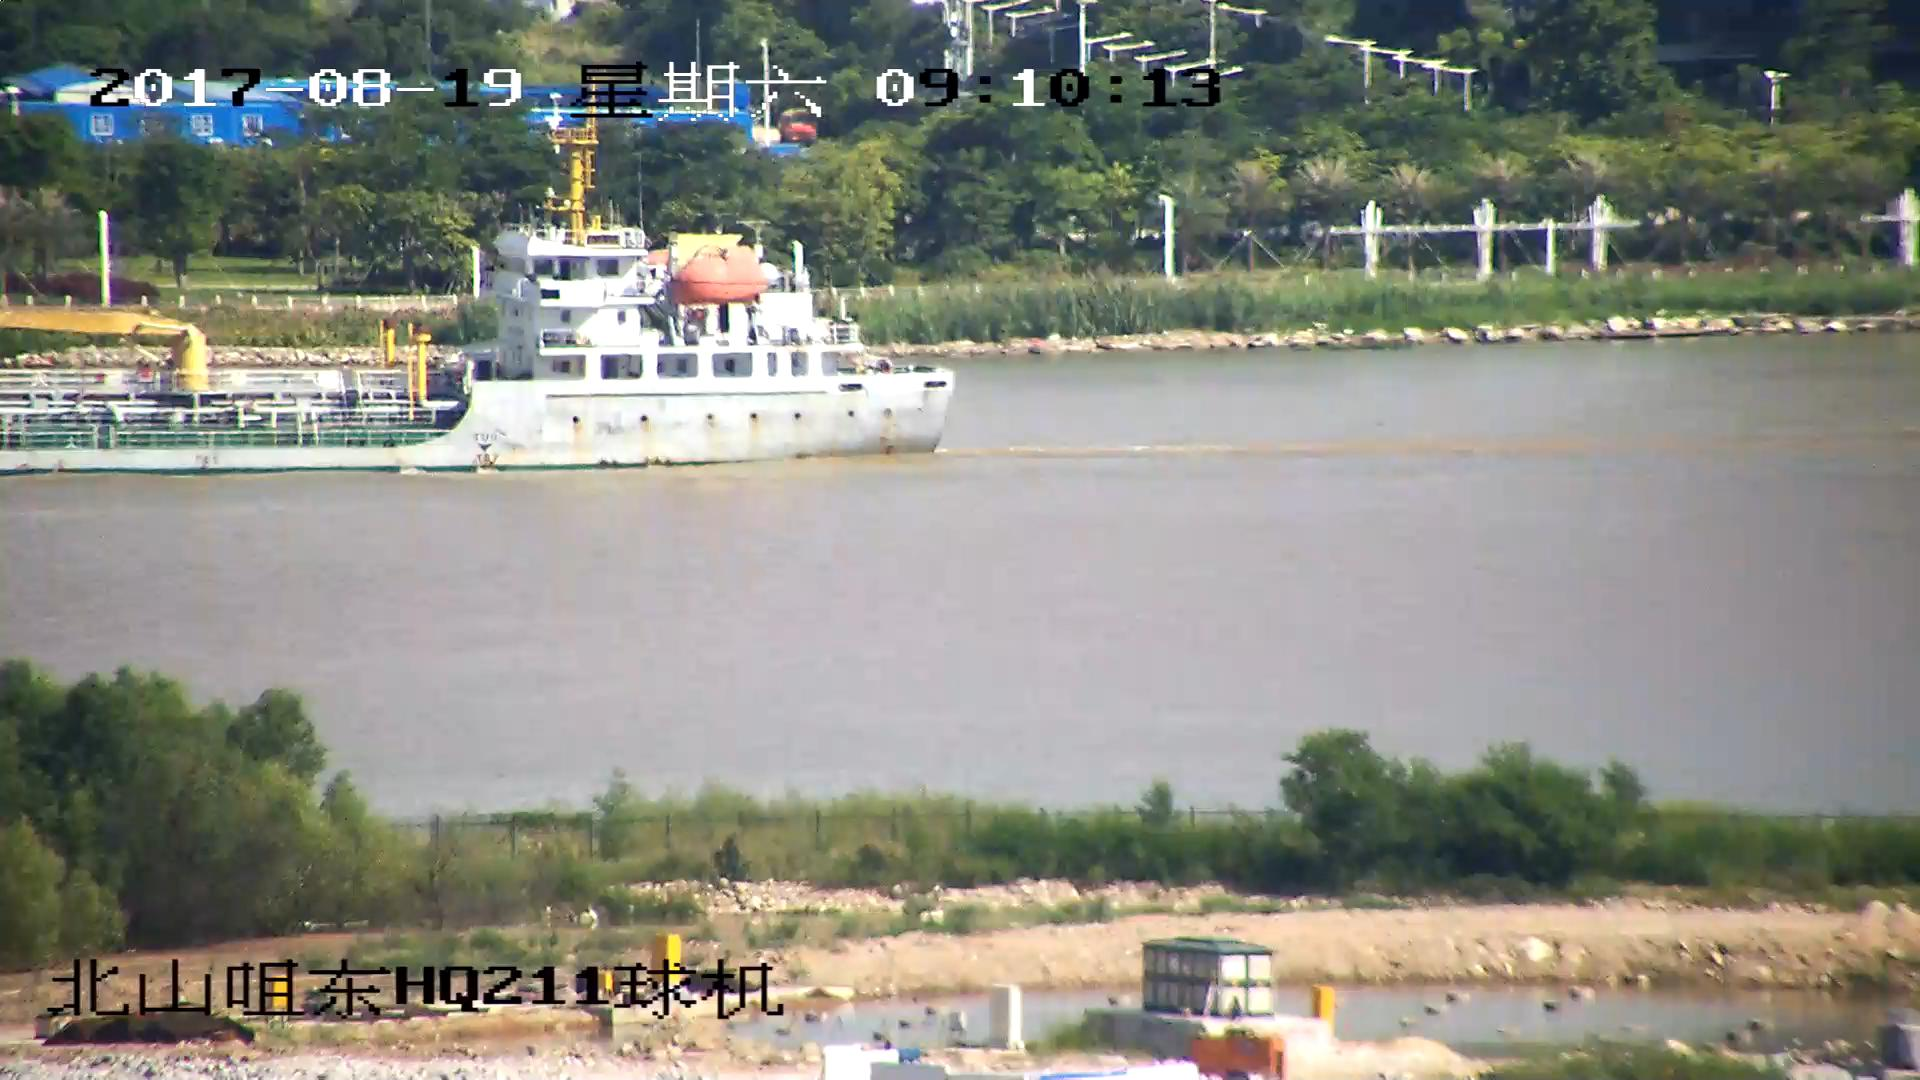general cargo ship: (1, 128, 963, 472)
